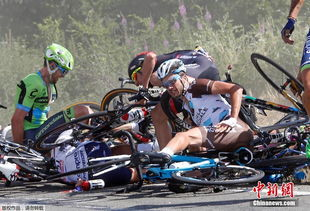fall: (3, 37, 78, 155)
